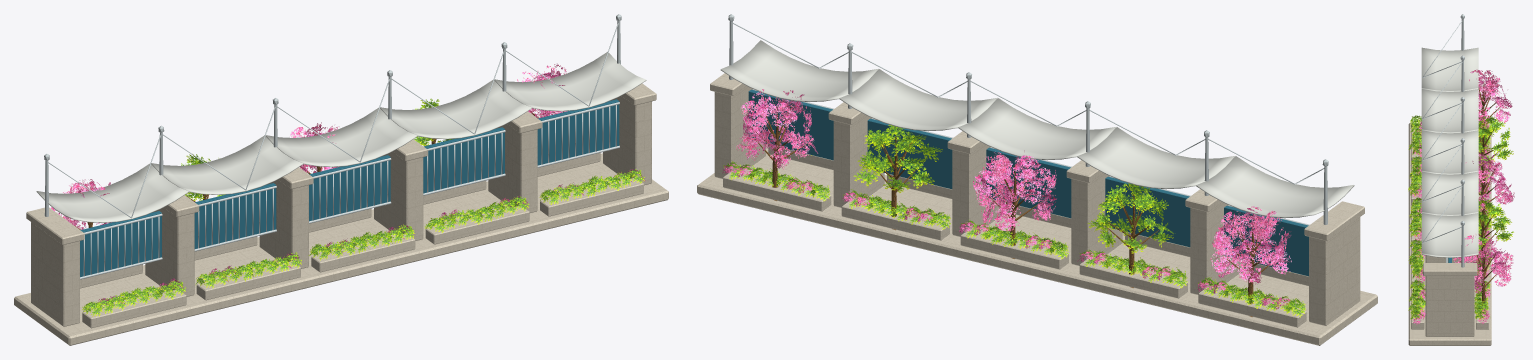
File: P02_gate_wing_v2.glb
The picture shows the model from 3 angles, left to right: view 1: azimuth 30°, elevation 25°; view 2: azimuth 150°, elevation 25°; view 3: azimuth 270°, elevation 25°; orthographic projection. The views are drawn at different scales.
Parts seen in each view (by area): view 1: GAME_V2_Gate_stone, GAME_V2_Ivory_membrane, GAME_V2_Panel_blue, GAME_V2_Silver, GAME_V2_Leaf_cutout, GAME_V2_Blossom_cutout; view 2: GAME_V2_Gate_stone, GAME_V2_Ivory_membrane, GAME_V2_Panel_blue, GAME_V2_Blossom_cutout, GAME_V2_Leaf_cutout, GAME_V2_Silver, GAME_V2_Bark; view 3: GAME_V2_Ivory_membrane, GAME_V2_Gate_stone, GAME_V2_Leaf_cutout, GAME_V2_Blossom_cutout, GAME_V2_Silver, GAME_V2_Bark.
Part boxes in pixels (<box>): GAME_V2_Gate_stone: <box>14,83,668,345</box>; GAME_V2_Ivory_membrane: <box>36,52,646,222</box>; GAME_V2_Panel_blue: <box>80,99,619,277</box>; GAME_V2_Silver: <box>44,14,621,279</box>; GAME_V2_Leaf_cutout: <box>82,98,644,316</box>; GAME_V2_Blossom_cutout: <box>51,63,645,305</box>; GAME_V2_Gate_stone: <box>697,73,1377,345</box>; GAME_V2_Ivory_membrane: <box>720,40,1354,218</box>; GAME_V2_Panel_blue: <box>748,89,1308,276</box>; GAME_V2_Blossom_cutout: <box>722,89,1291,309</box>; GAME_V2_Leaf_cutout: <box>723,125,1305,317</box>; GAME_V2_Silver: <box>728,14,1328,225</box>; GAME_V2_Bark: <box>750,104,1268,316</box>; GAME_V2_Ivory_membrane: <box>1421,47,1478,257</box>; GAME_V2_Gate_stone: <box>1408,123,1491,345</box>; GAME_V2_Leaf_cutout: <box>1408,115,1513,319</box>; GAME_V2_Blossom_cutout: <box>1411,69,1514,324</box>; GAME_V2_Silver: <box>1422,14,1464,267</box>; GAME_V2_Bark: <box>1460,82,1504,305</box>.
Size of the model in its own units: 10.5 by 2.73 by 2.3.
Materials: 7 (4 with a texture image).
